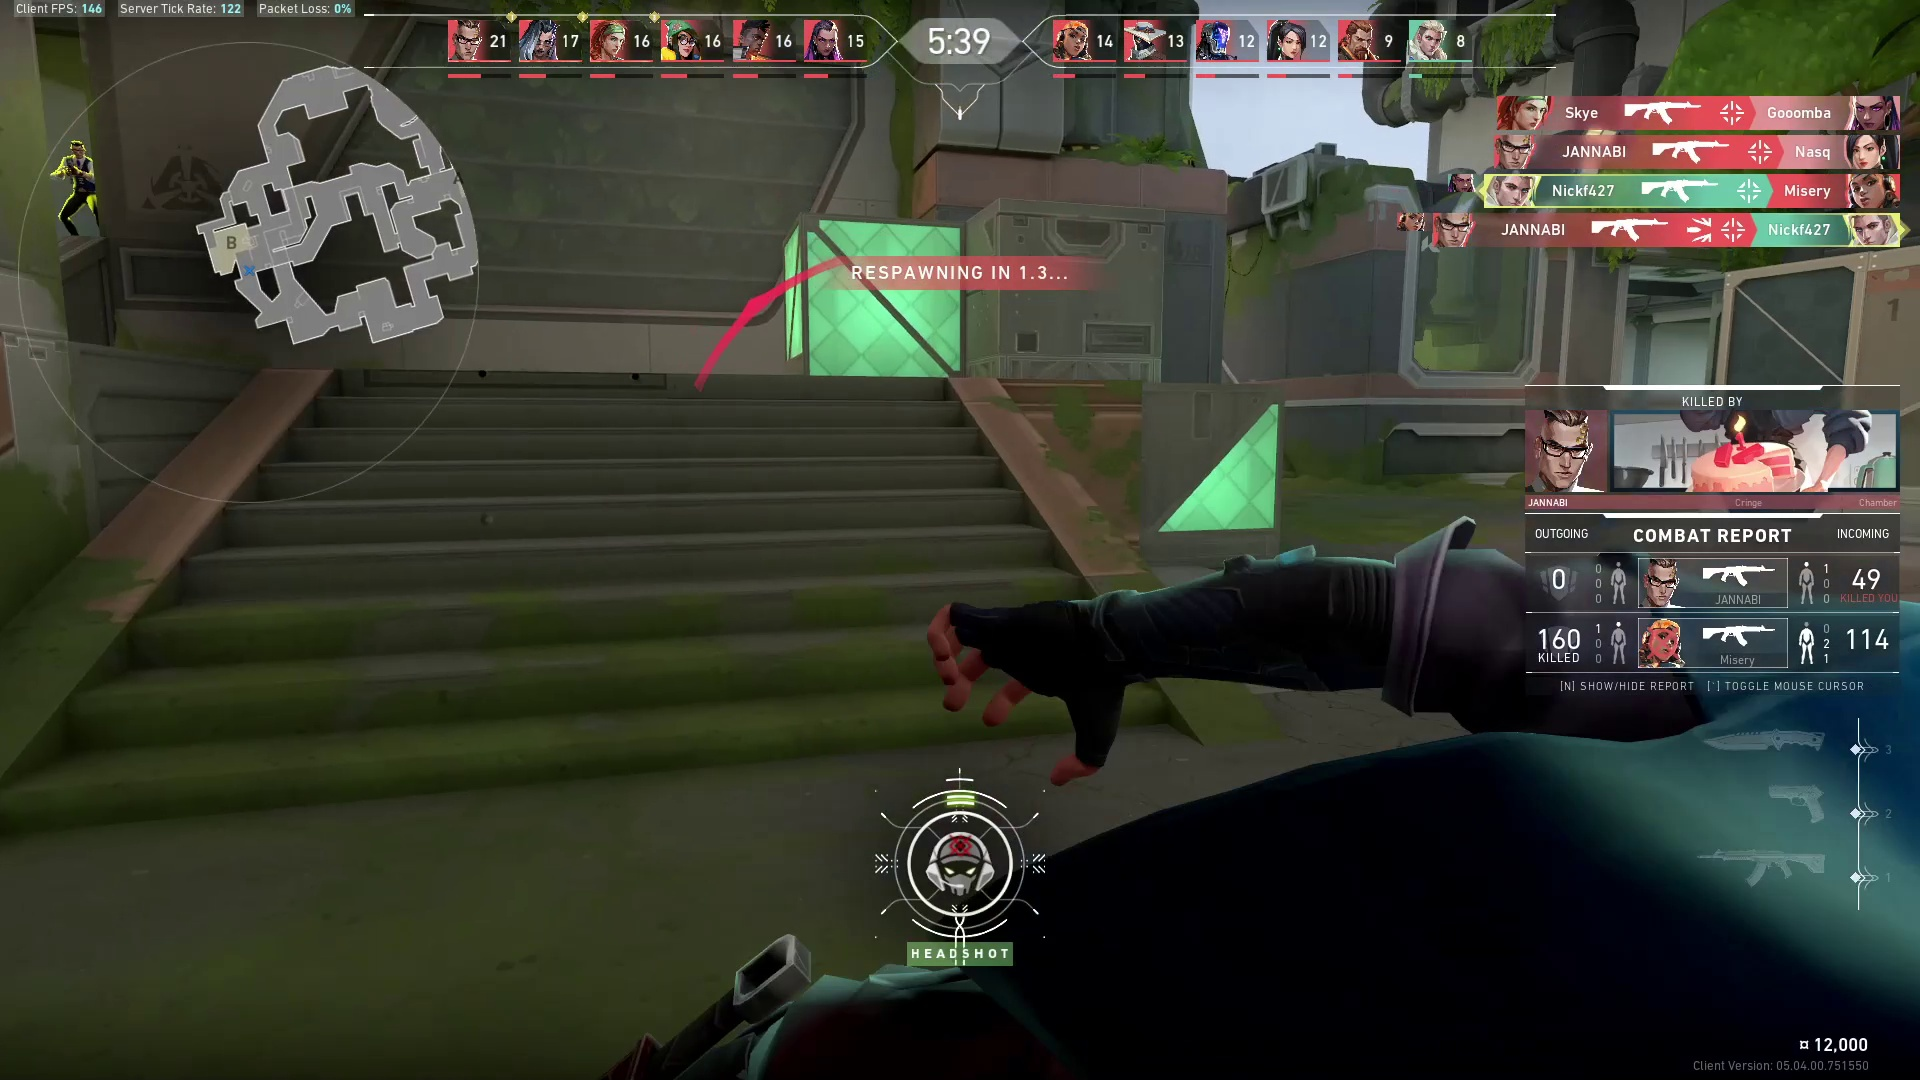enemy_body: (49, 160, 100, 237)
enemy_head: (66, 138, 88, 160)
